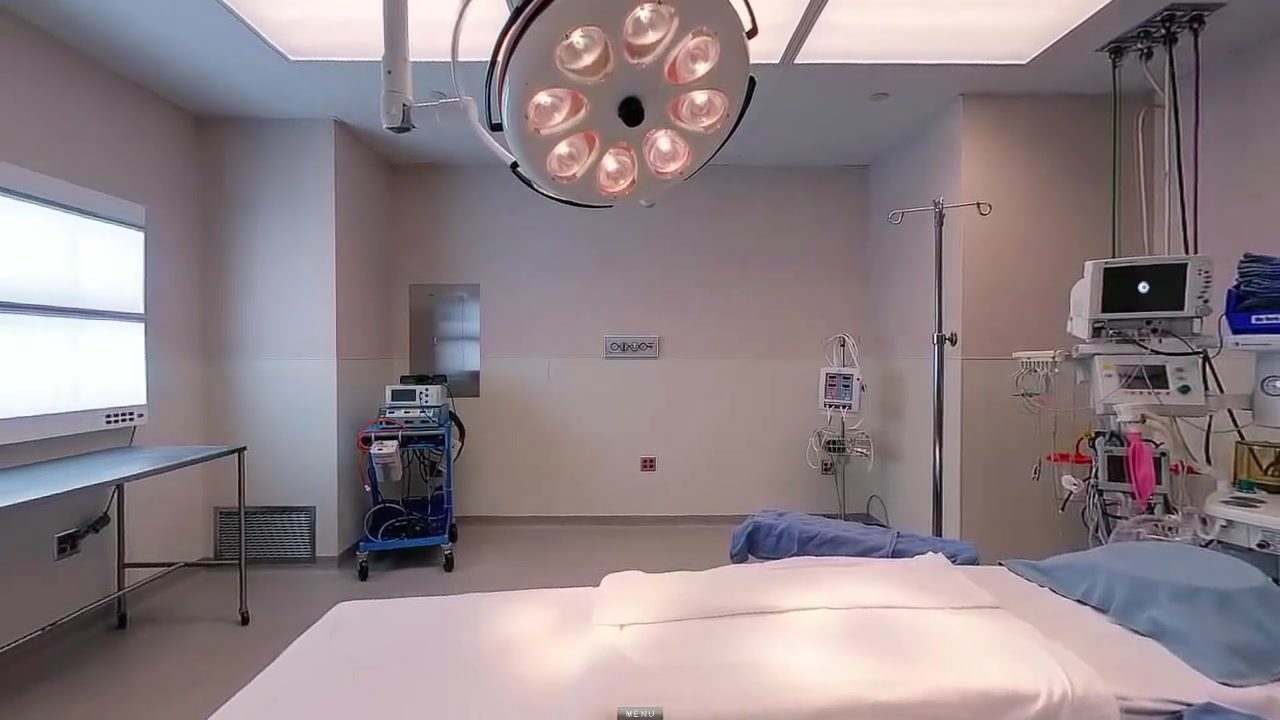bedside_monitor: (1101, 268, 1191, 316)
electrosurgical_unit: (379, 405, 450, 429)
iv_pole: (888, 200, 992, 536), (815, 329, 869, 519)
operating_bed: (201, 541, 1280, 720)
surgical_light: (435, 1, 762, 214)
table: (1, 444, 250, 630)
